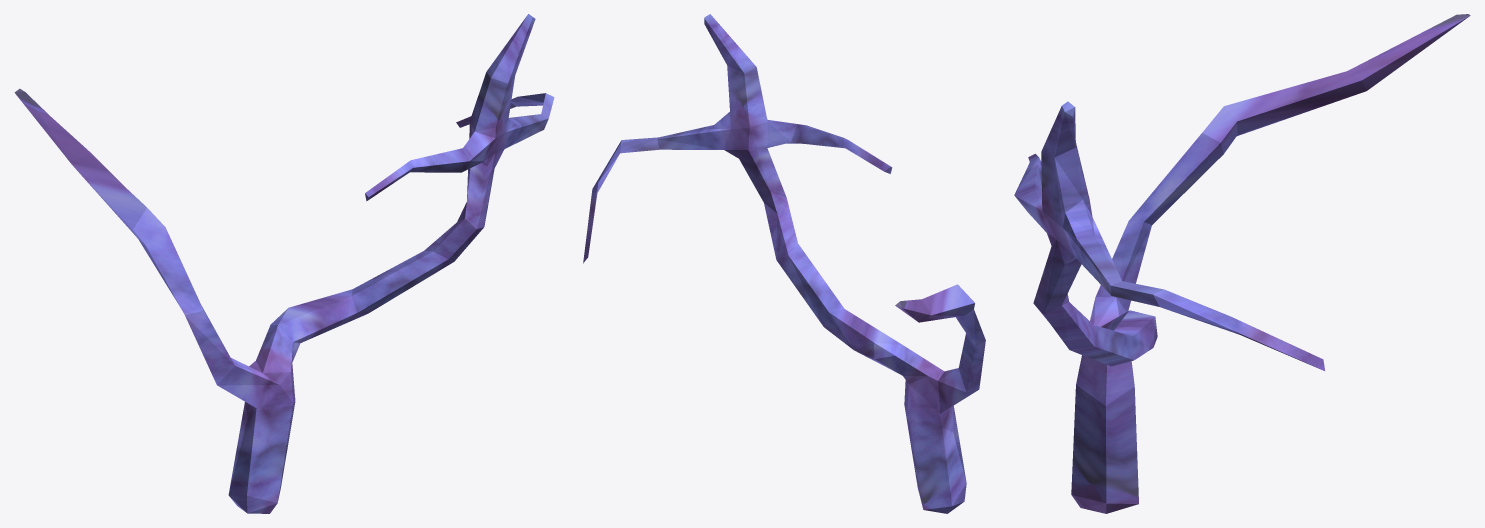
Rendered from SnowCreature_2.gltf.
3 renders of one model, left to right at view 1: azimuth 30°, elevation 25°; view 2: azimuth 150°, elevation 25°; view 3: azimuth 270°, elevation 25°, orthographic. The views are drawn at different scales.
Visible parts, largest first — view 1: SnowCreature_2; view 2: SnowCreature_2; view 3: SnowCreature_2.
Boxes of the visible parts, bbox=[...] form: SnowCreature_2: bbox=[14, 14, 554, 513]; SnowCreature_2: bbox=[583, 14, 985, 513]; SnowCreature_2: bbox=[1014, 14, 1470, 513].
Size of the model in its own units: 20.45 by 20.71 by 15.17.
Materials: 1 (1 with a texture image).
